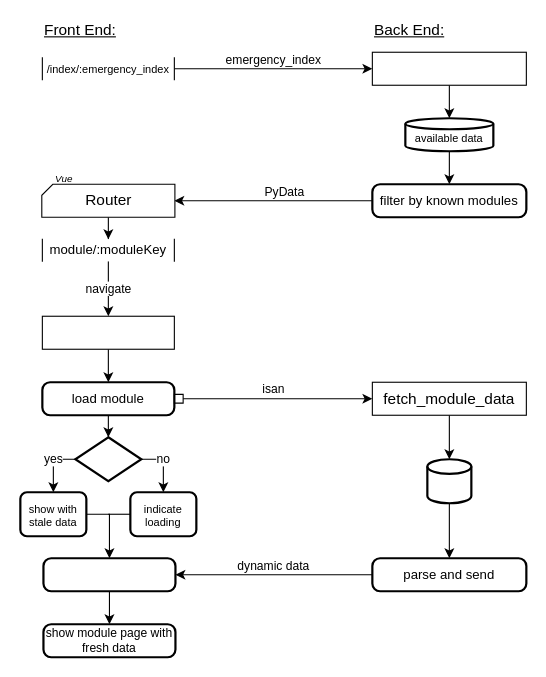
Some shapes in this 546 by 677 pixel diagram are drawn without their labels. The shapes that lost their labels are listed below. From the top down, each one's box as (x1, y1, x2, y2) in pixels, then its label:
(371, 51, 526, 85): emergency_view
(41, 315, 174, 349): ModuleContainer
(74, 436, 142, 482): cached data
(426, 458, 472, 504): AS
(42, 557, 176, 592): error checking / prepare
